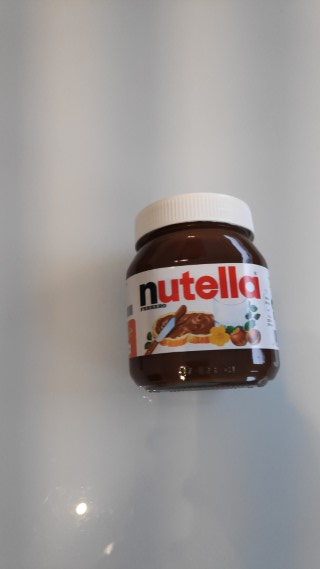nutella: (122, 189, 282, 391)
